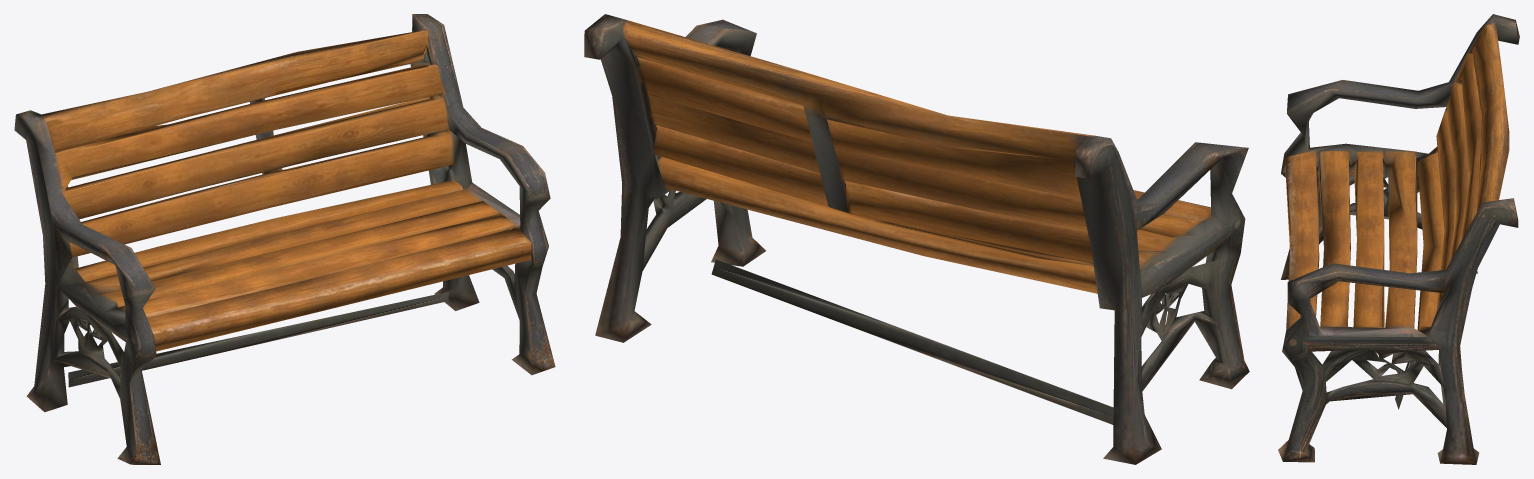
File: bench.glb
3 views of the same model, side by side, from view 1: azimuth 30°, elevation 25°; view 2: azimuth 150°, elevation 25°; view 3: azimuth 270°, elevation 25° (orthographic). The views are drawn at different scales.
Parts seen in each view (by area): view 1: bench; view 2: bench; view 3: bench.
Boxes of the visible parts, x1,y1,x2,y2 form: bench: (14, 14, 555, 464); bench: (584, 14, 1249, 464); bench: (1278, 14, 1519, 464).
Size of the model in its own units: 1.6 by 0.9476 by 0.8116.
1 material, 1 textured.
